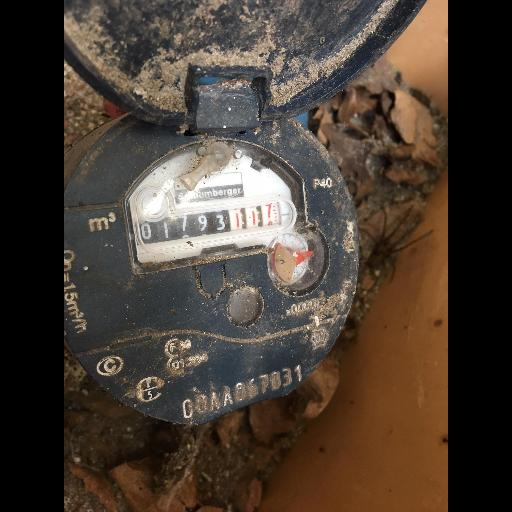0: (137, 218, 157, 244)
1: (154, 217, 174, 242), (228, 208, 245, 231), (245, 206, 262, 229)
3: (211, 209, 231, 233)
7: (173, 213, 196, 240), (261, 204, 280, 227)
9: (194, 212, 213, 236)
border_water_meter_number: (133, 194, 300, 257)
